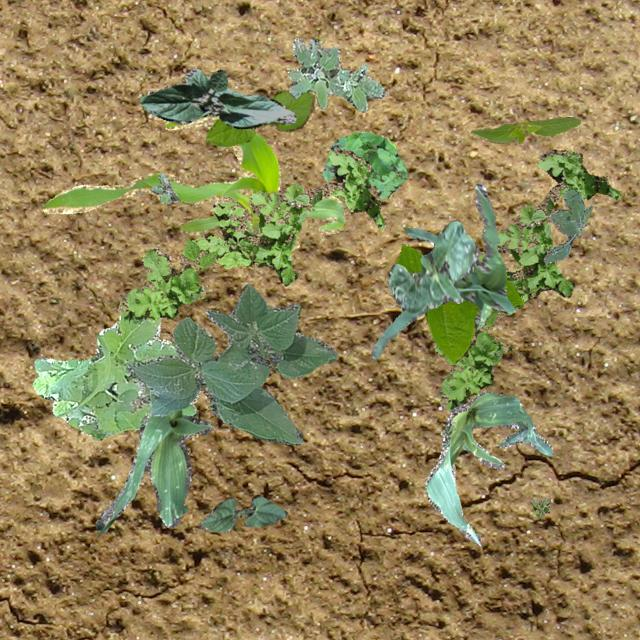crop: (41, 114, 344, 250), (125, 284, 336, 444), (369, 182, 514, 358), (424, 390, 552, 544), (95, 408, 212, 536), (397, 244, 522, 362), (138, 66, 294, 128), (388, 220, 478, 312), (204, 88, 314, 146), (198, 494, 286, 532), (470, 115, 580, 144)
weed: (433, 148, 620, 410), (116, 148, 384, 322), (31, 314, 200, 440), (286, 36, 386, 112), (322, 130, 406, 198), (542, 188, 592, 262), (150, 172, 178, 202), (530, 494, 550, 518)
